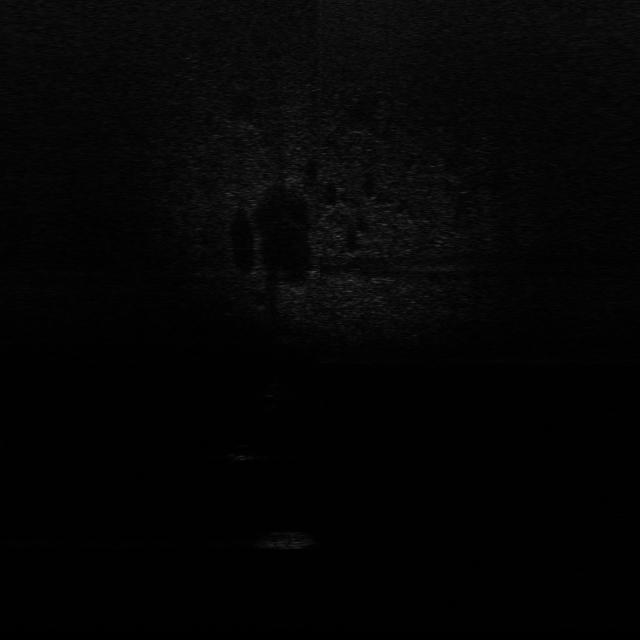ball: (227, 442, 259, 462)
circle cage: (252, 528, 321, 550)
human body: (267, 373, 284, 412)
